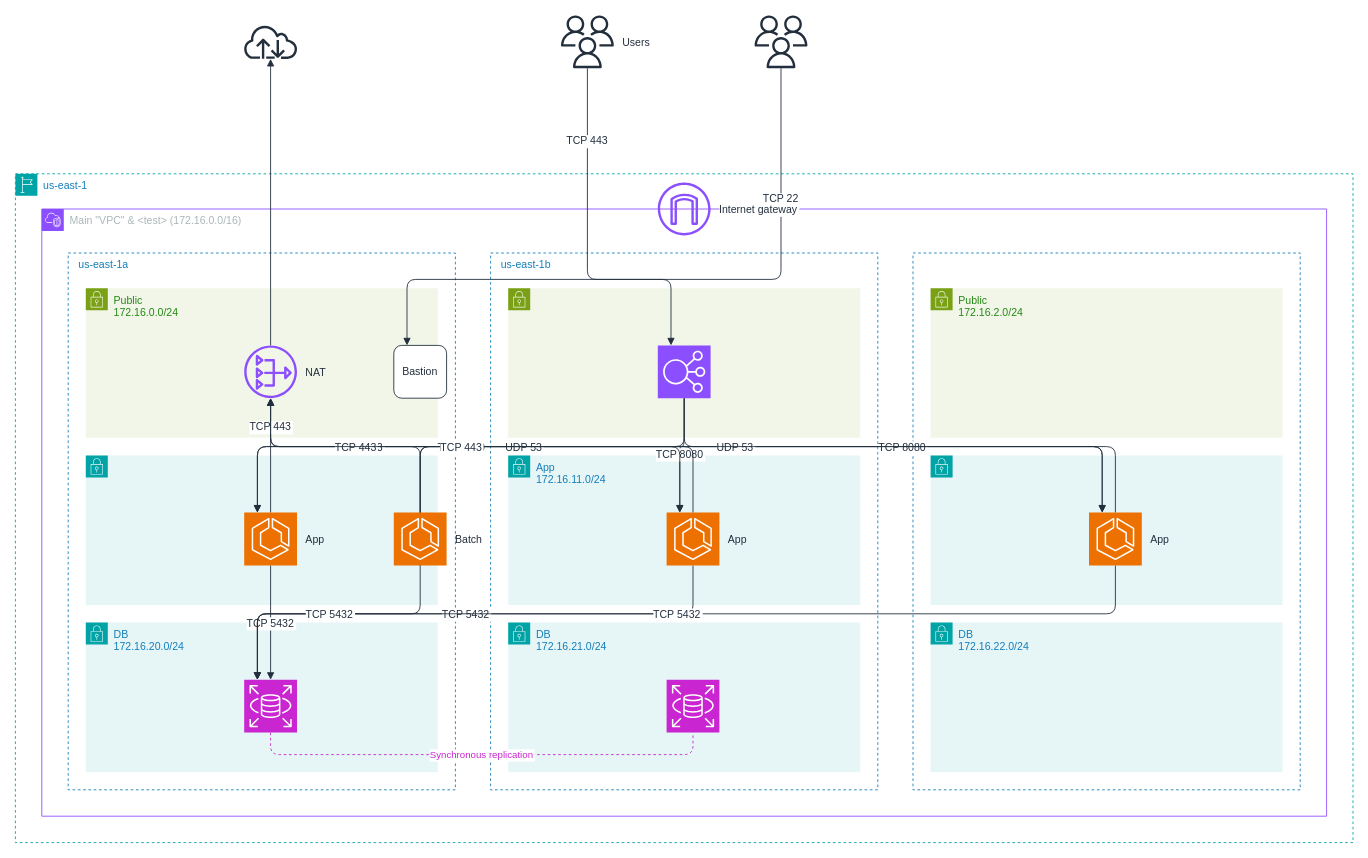
Image size: 1368x858. Some labels were removed from this diagram. The box of each missing label's shape, as (x1, y1, x2, y2) in pixels:
Admins: (754, 15, 807, 68)
ALB: (657, 345, 711, 398)
App 172.16.10.0/24: (85, 455, 438, 605)
App 172.16.12.0/24: (930, 455, 1283, 605)
DB (Primary): (243, 679, 297, 733)
DB (Standby): (666, 679, 719, 733)
External SaaS: (244, 15, 297, 68)
Public 172.16.1.0/24: (507, 287, 860, 438)
us-east-1c: (912, 252, 1300, 790)
